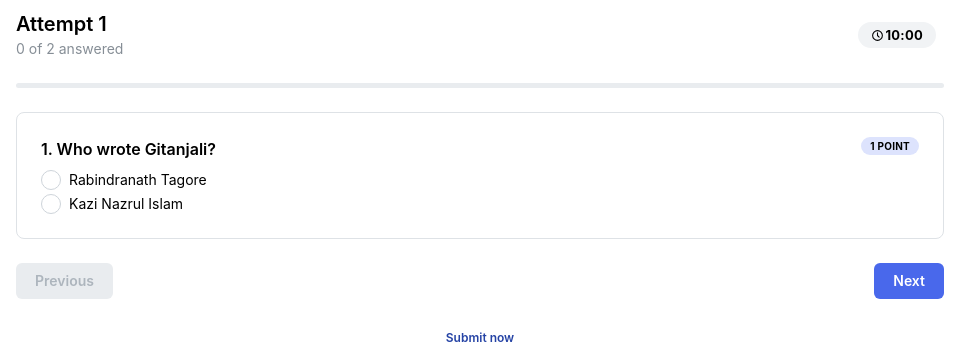
Test: QuizRunnerRoute › shows one page of questions at a time
Check: the text "1. Who wrote Gitanjali?" is shown, box x1=41 y1=137 x2=216 y2=162
Check: the text "Name one Bengali metre" is not shown
Click the button "Next".
click(909, 281)  # box x1=874 y1=263 x2=944 y2=299
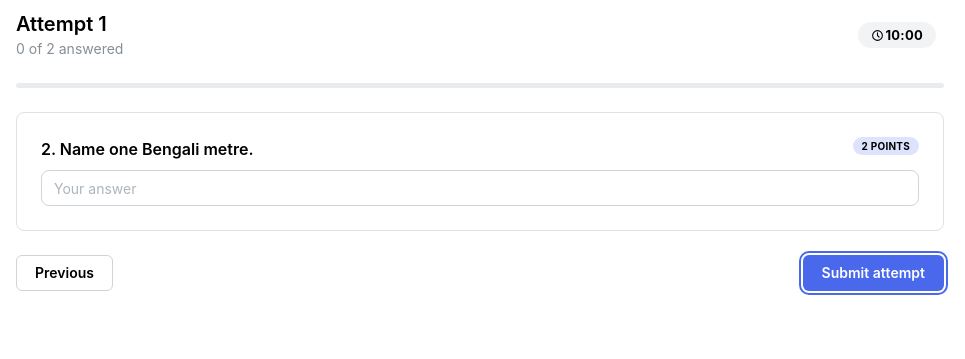
Check: the text "2. Name one Bengali metre." is shown, box x1=41 y1=137 x2=254 y2=162
